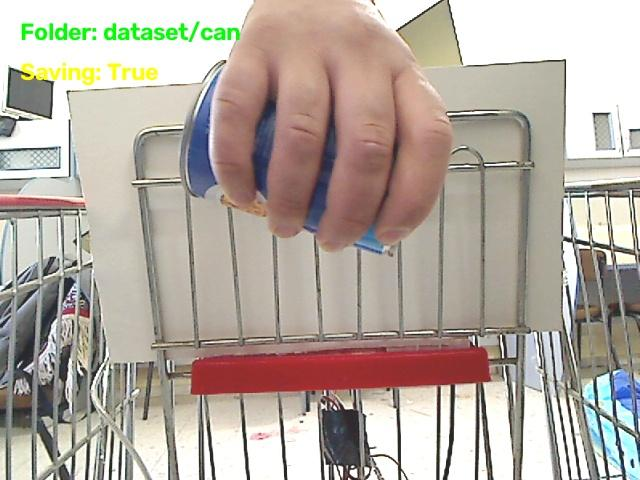can: (181, 62, 223, 200), (305, 125, 334, 232), (251, 102, 275, 199), (355, 227, 385, 253)
